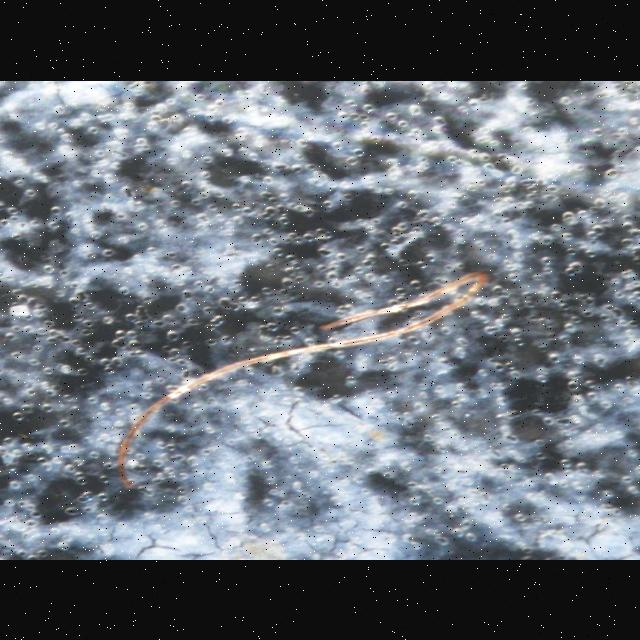Fibre: (112, 270, 492, 490)
